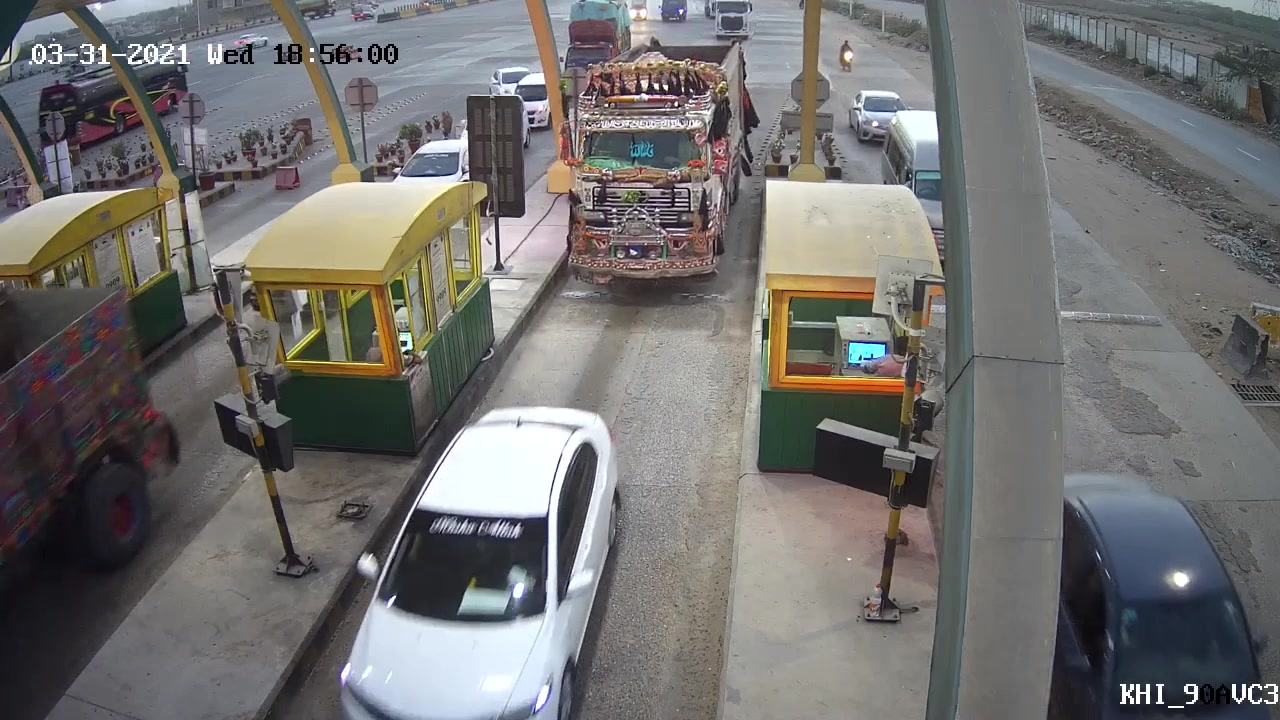F5: (551, 38, 752, 283)
